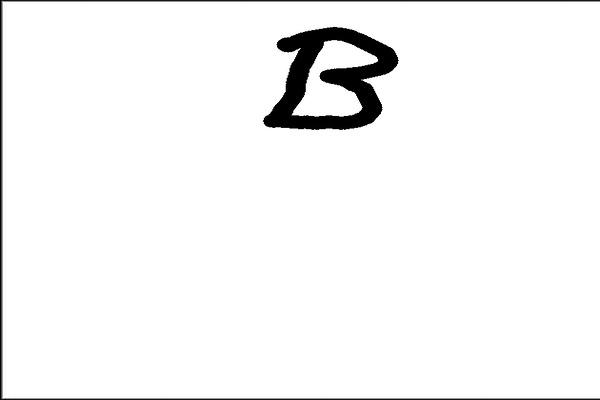B: (248, 16, 407, 142)
